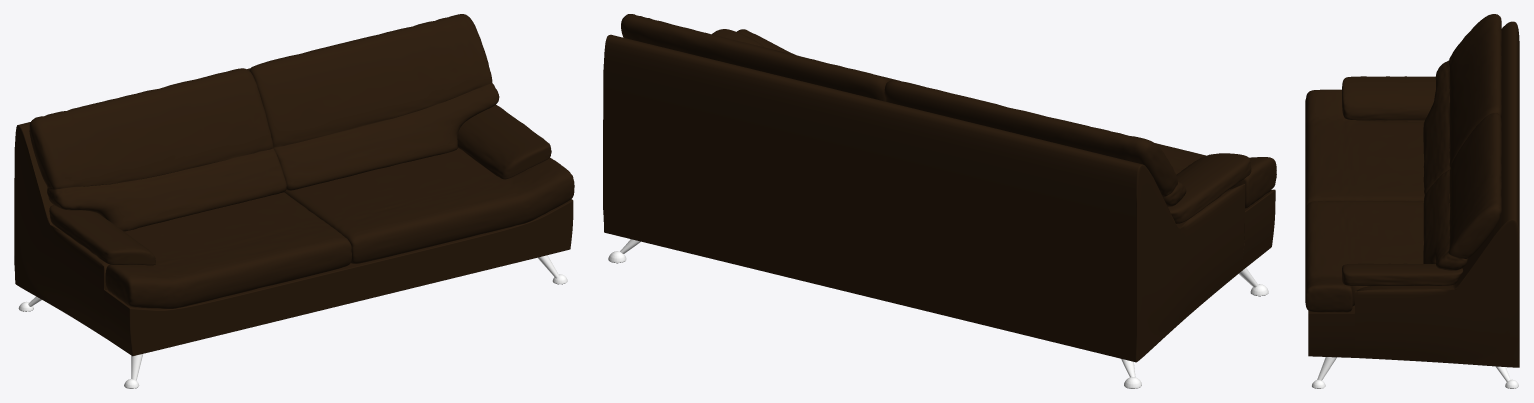
Rendered from sofa_4.glb.
3 views of the same model, side by side, from view 1: azimuth 30°, elevation 25°; view 2: azimuth 150°, elevation 25°; view 3: azimuth 270°, elevation 25° (orthographic). The views are drawn at different scales.
Visible parts, largest first — view 1: sofa-cojin.001; view 2: sofa-cojin.001; view 3: sofa-cojin.001.
Boxes of the visible parts, <box> form: sofa-cojin.001: <box>14,14,574,388</box>; sofa-cojin.001: <box>603,14,1276,388</box>; sofa-cojin.001: <box>1305,14,1519,388</box>.
Size of the model in its own units: 2.01 by 0.8487 by 0.9124.
